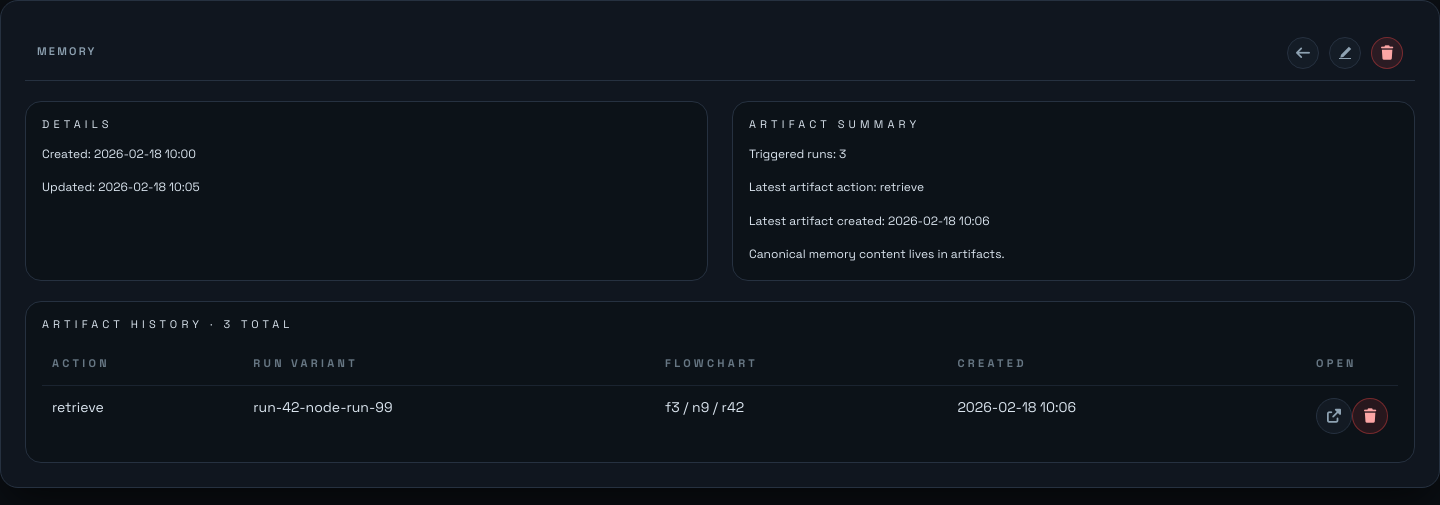
Test: MemoryDetailPage › deletes a selected artifact history item only
Click the button named "Delete artifact 55".
click(1370, 416)  # box x1=1352 y1=398 x2=1388 y2=434
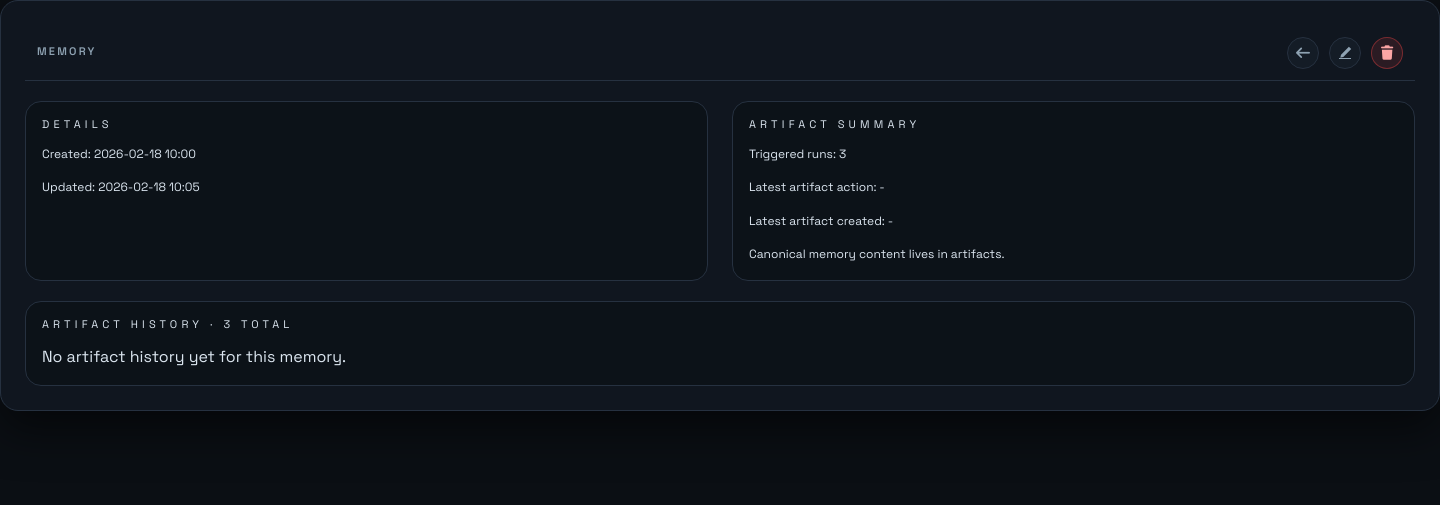
Result: the row with class "table-row-link" is gone
